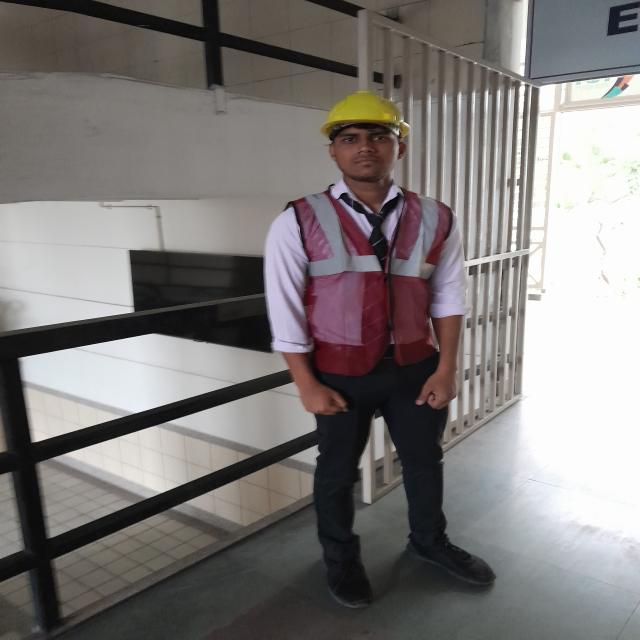safe: (266, 91, 472, 605)
